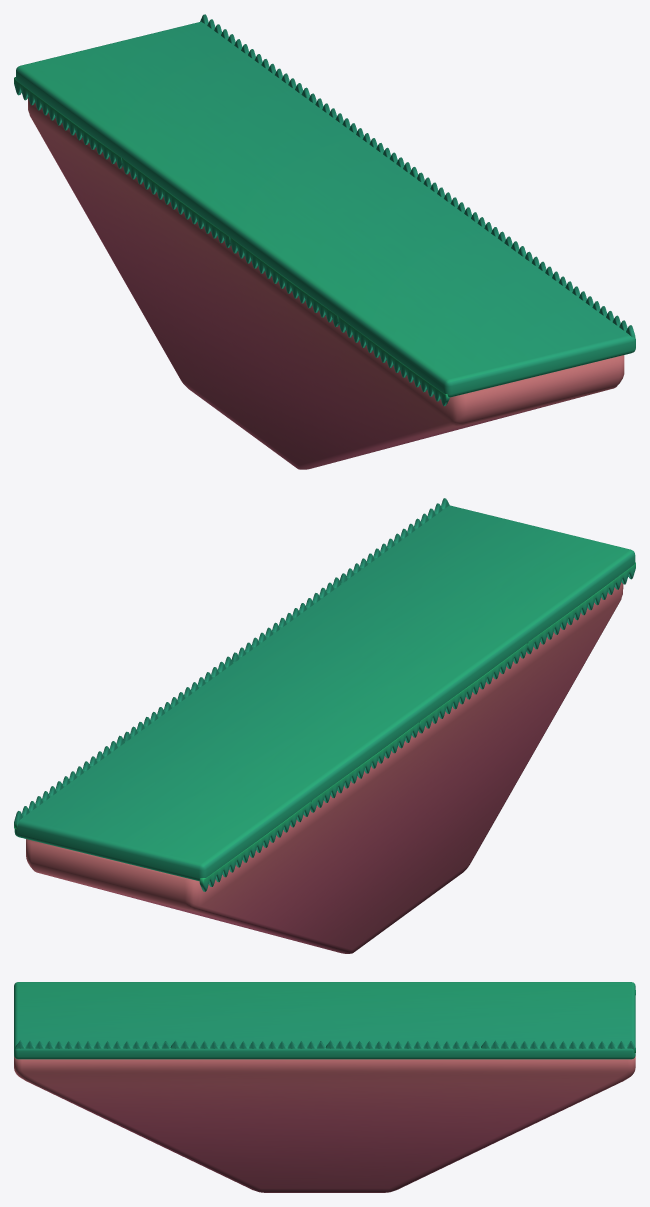
The model's file is Platform_A.fbx.
3 renders of one model, top to bottom at view 1: azimuth 30°, elevation 25°; view 2: azimuth 150°, elevation 25°; view 3: azimuth 270°, elevation 25°, orthographic. The views are drawn at different scales.
Visible parts, largest first — view 1: Platform_A, bottom_A, Grassplane, Grassplane.002; view 2: Platform_A, bottom_A, Grassplane, Grassplane.002; view 3: bottom_A, Platform_A, Grassplane.002.
Part boxes in pixels (x1,y1,x2,y2): Platform_A: (16,21,635,397); bottom_A: (28,97,624,469); Grassplane: (14,77,449,406); Grassplane.002: (200,14,635,337); Platform_A: (14,505,635,881); bottom_A: (26,582,623,953); Grassplane: (199,562,635,891); Grassplane.002: (14,498,449,829); bottom_A: (14,1056,635,1192); Platform_A: (14,982,635,1059); Grassplane.002: (15,1040,635,1052).
Size of the model in its own units: 2.04 by 2.23 by 8.
Materials: 1 (1 with a texture image).
